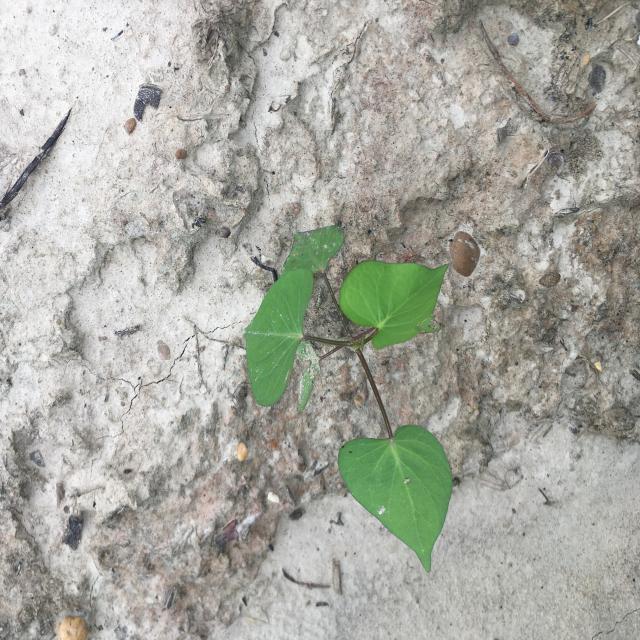MorningGlory: (243, 224, 454, 573)
